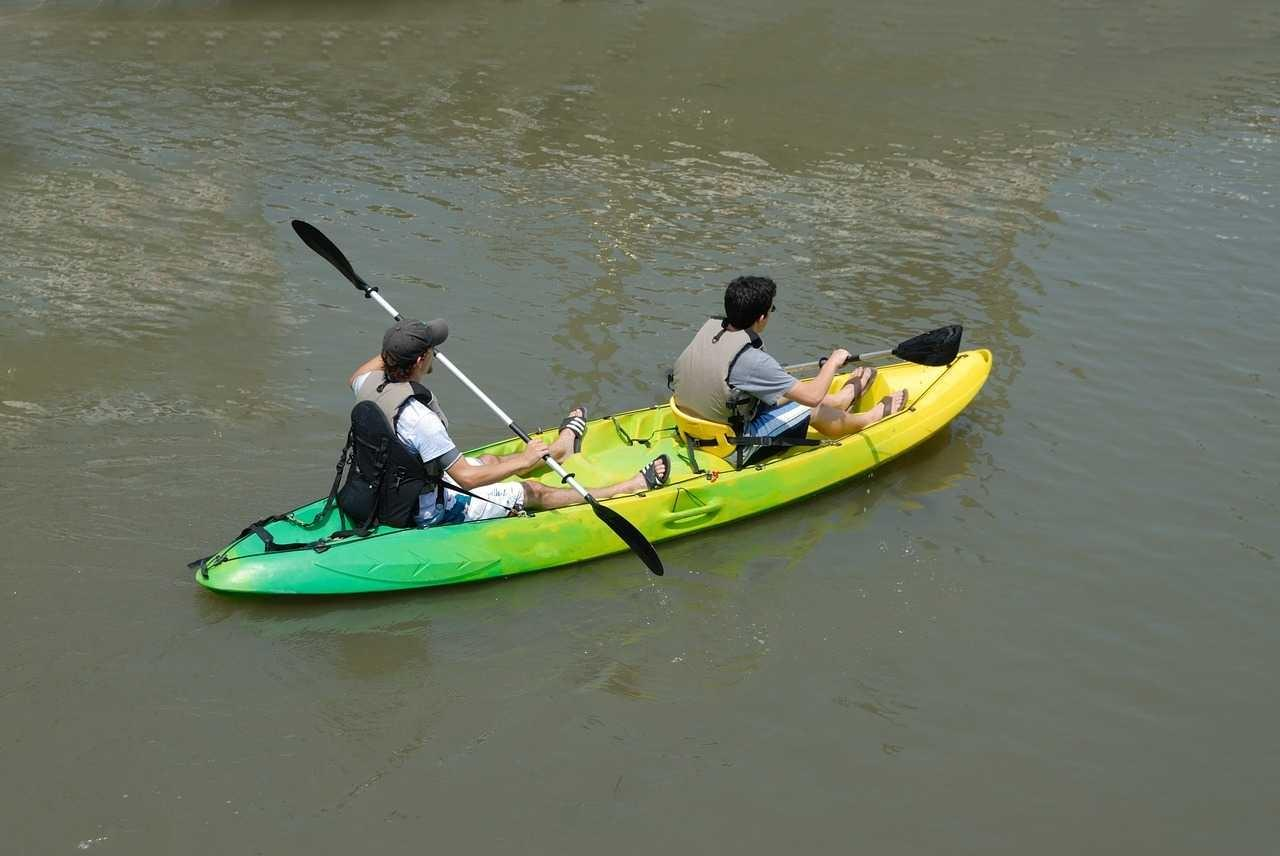kayak: (195, 342, 992, 602)
